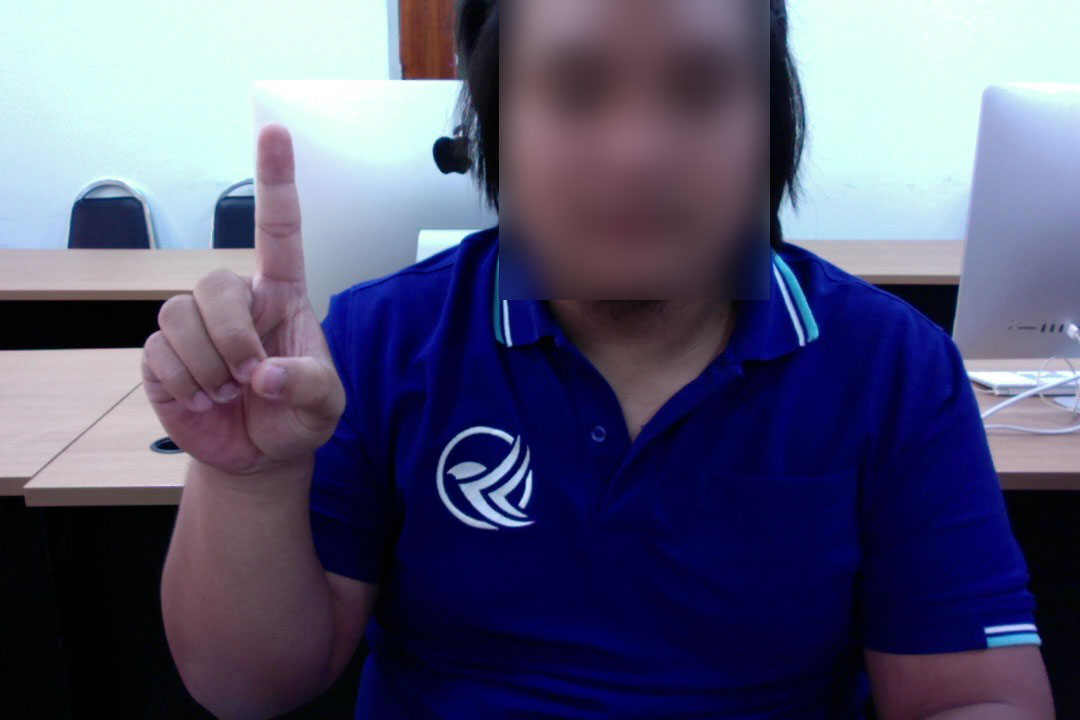dor: (128, 114, 350, 491)
